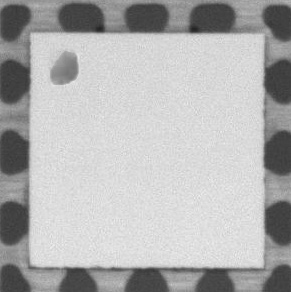DIE_INK: (49, 49, 77, 85)
